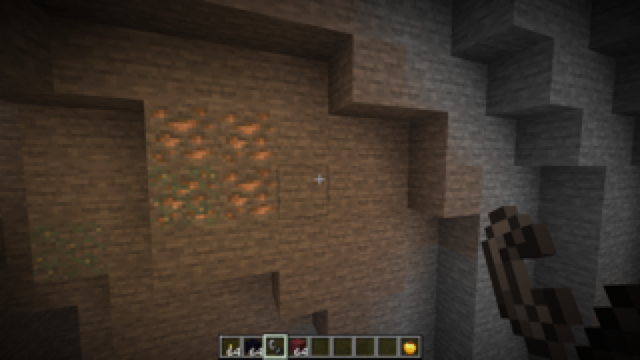iron: (143, 105, 282, 225)
